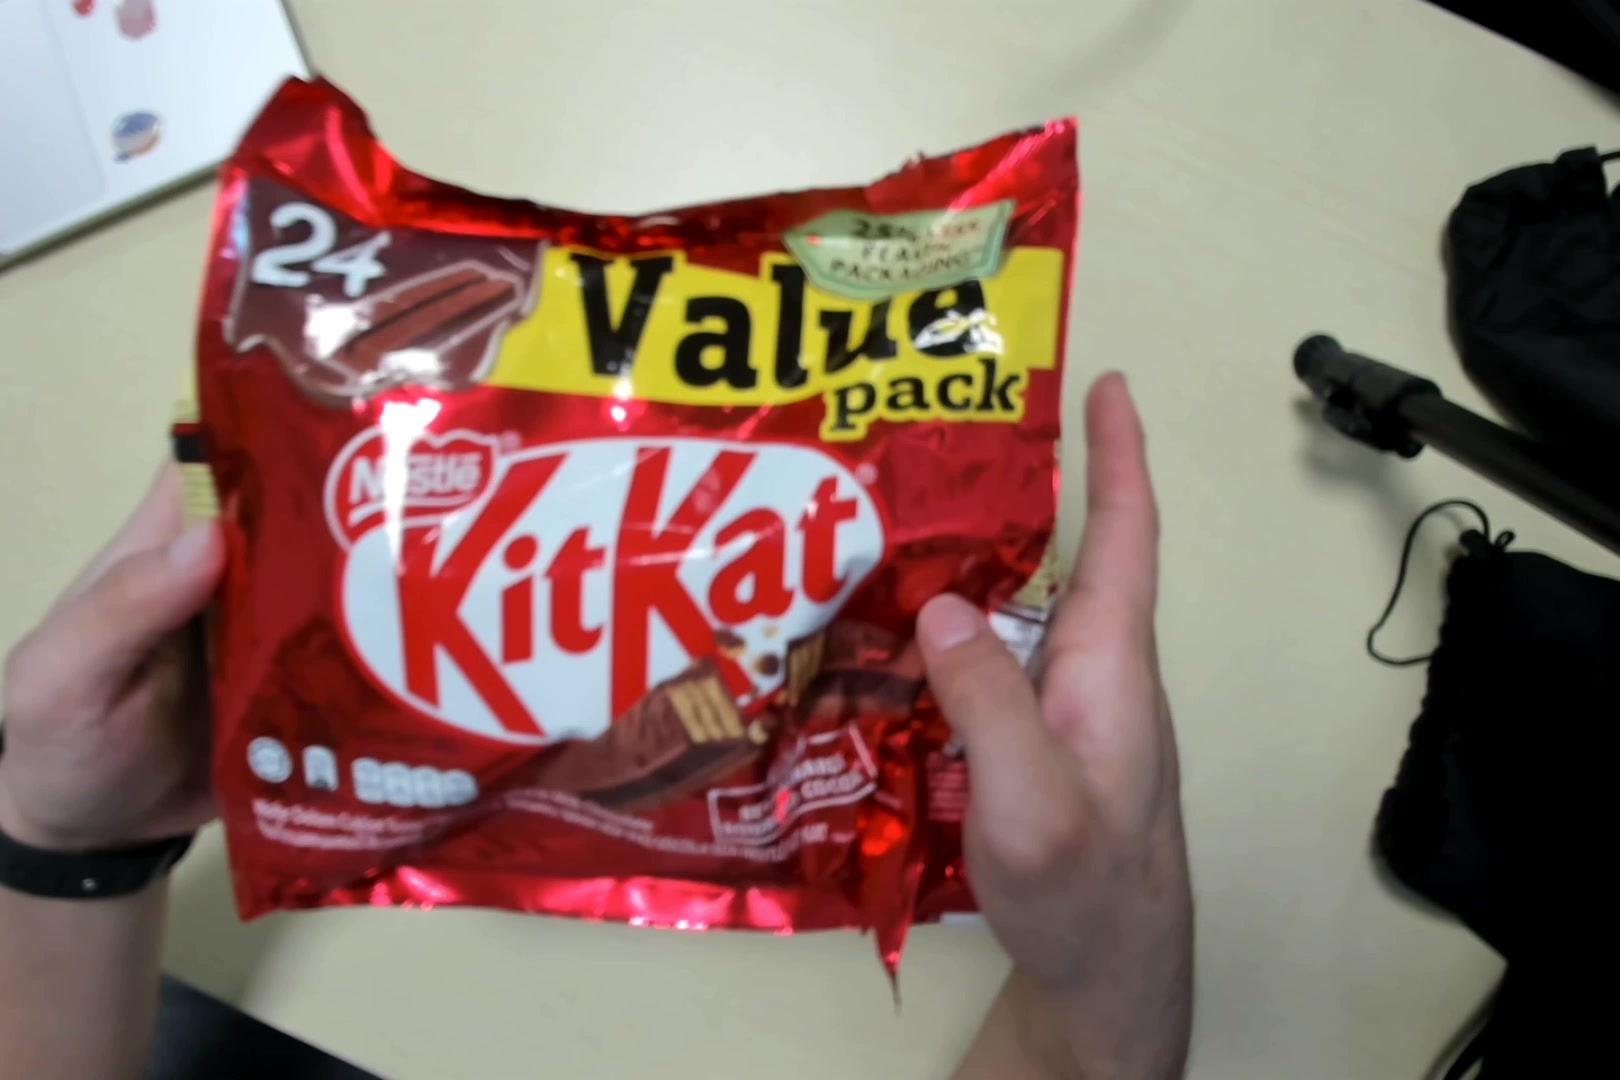SweetsChocolatesOthers_400-499g_Halal_NonHealthy: (183, 106, 1073, 941)
